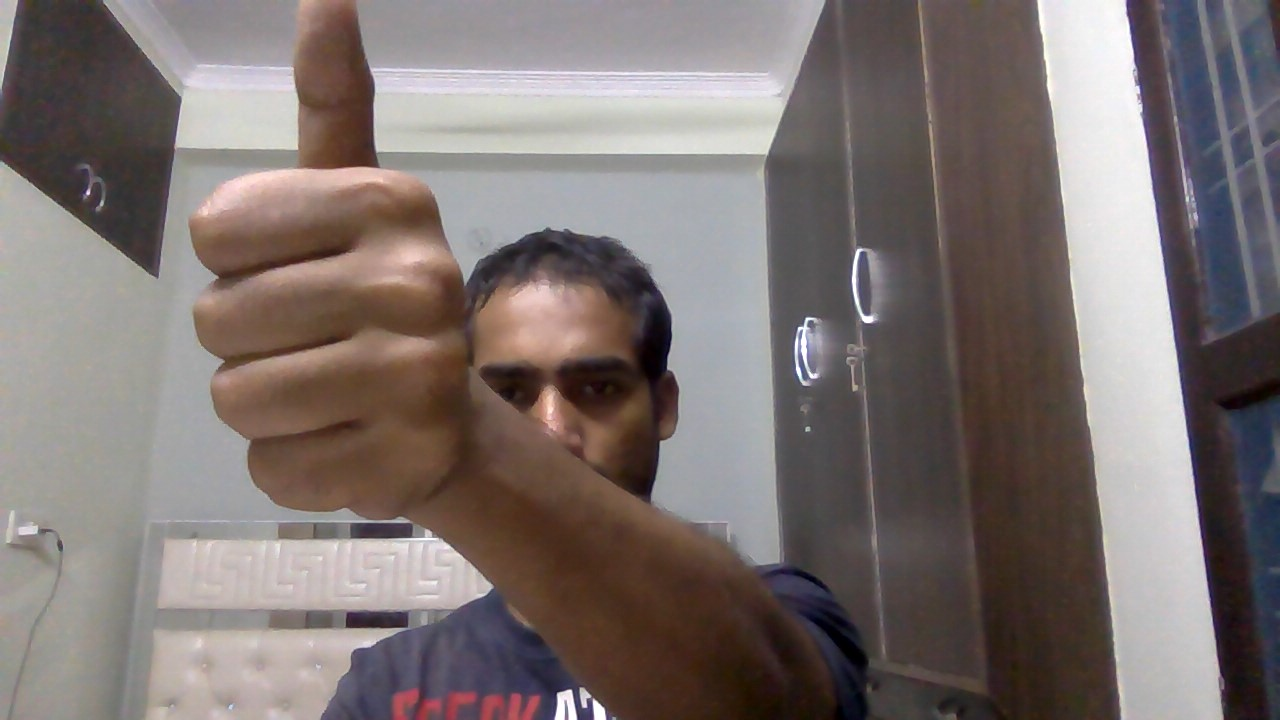Save: (167, 1, 512, 533)
